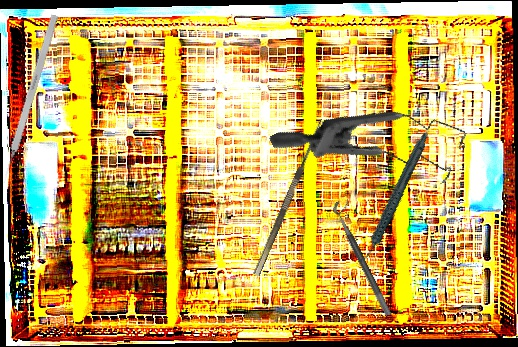Fixation Ring: (330, 197, 402, 317)
Handpiece: (334, 131, 453, 266)
Hook Surgical: (244, 114, 326, 277), (0, 14, 59, 184)
Speculum: (268, 54, 482, 246)
